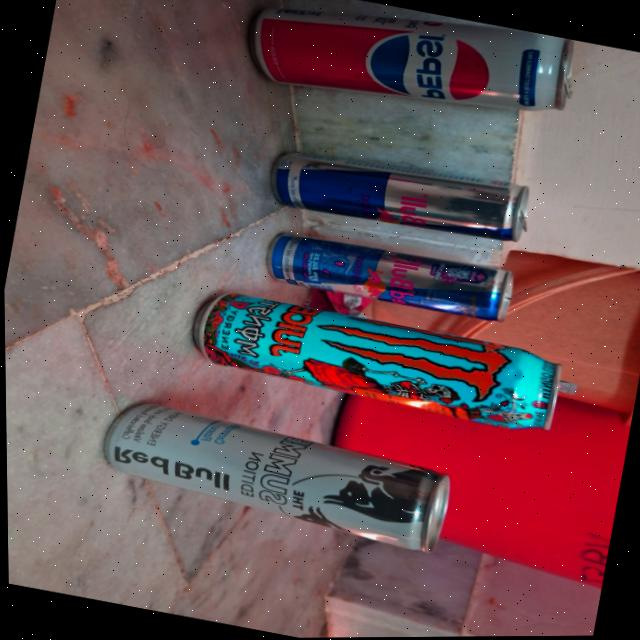Monster Mango Loco: (182, 281, 571, 441)
Pepsi Retro: (237, 0, 580, 150)
Redbul: (269, 142, 538, 250)
Redbull DanceYourStyle: (261, 227, 512, 328)
Redbull Summer Edition: (90, 390, 468, 562)
